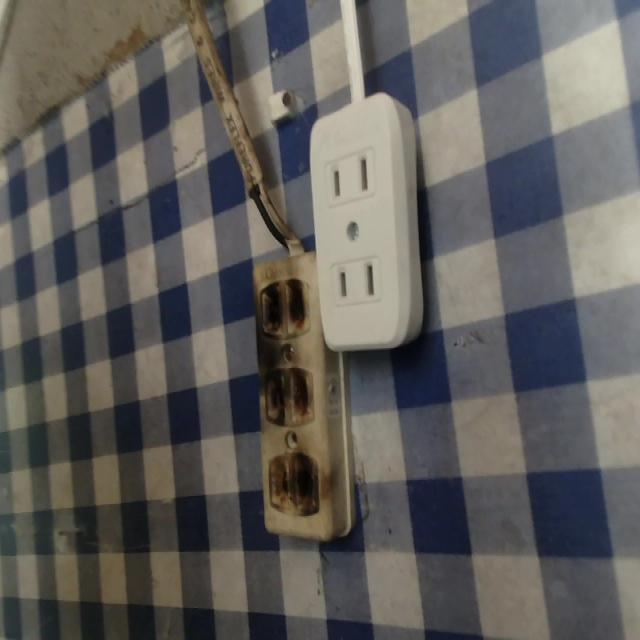-: (257, 449, 341, 515), (256, 361, 318, 431), (256, 277, 310, 340)
